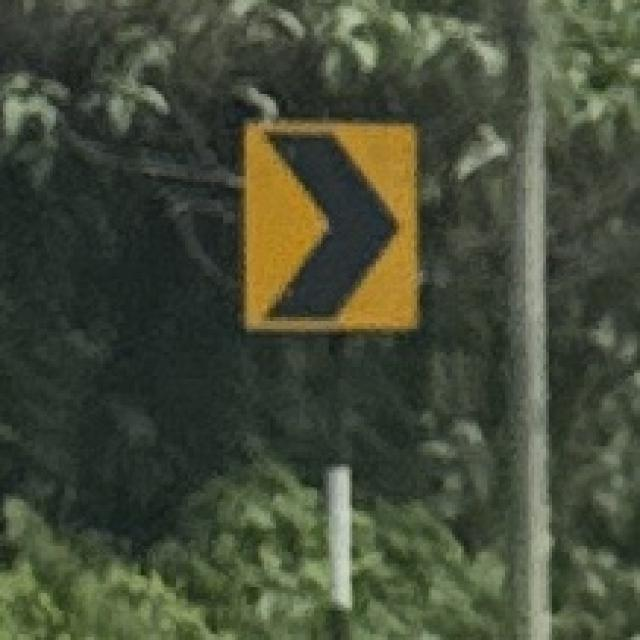TURN_RIGHT: (238, 117, 426, 336)
